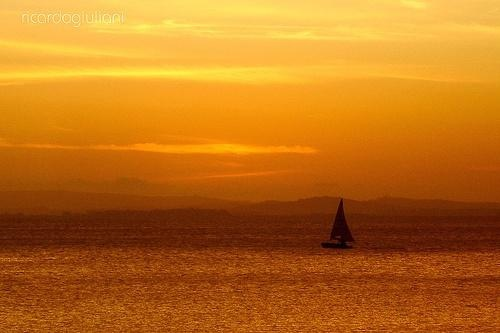boat: (321, 197, 357, 252)
